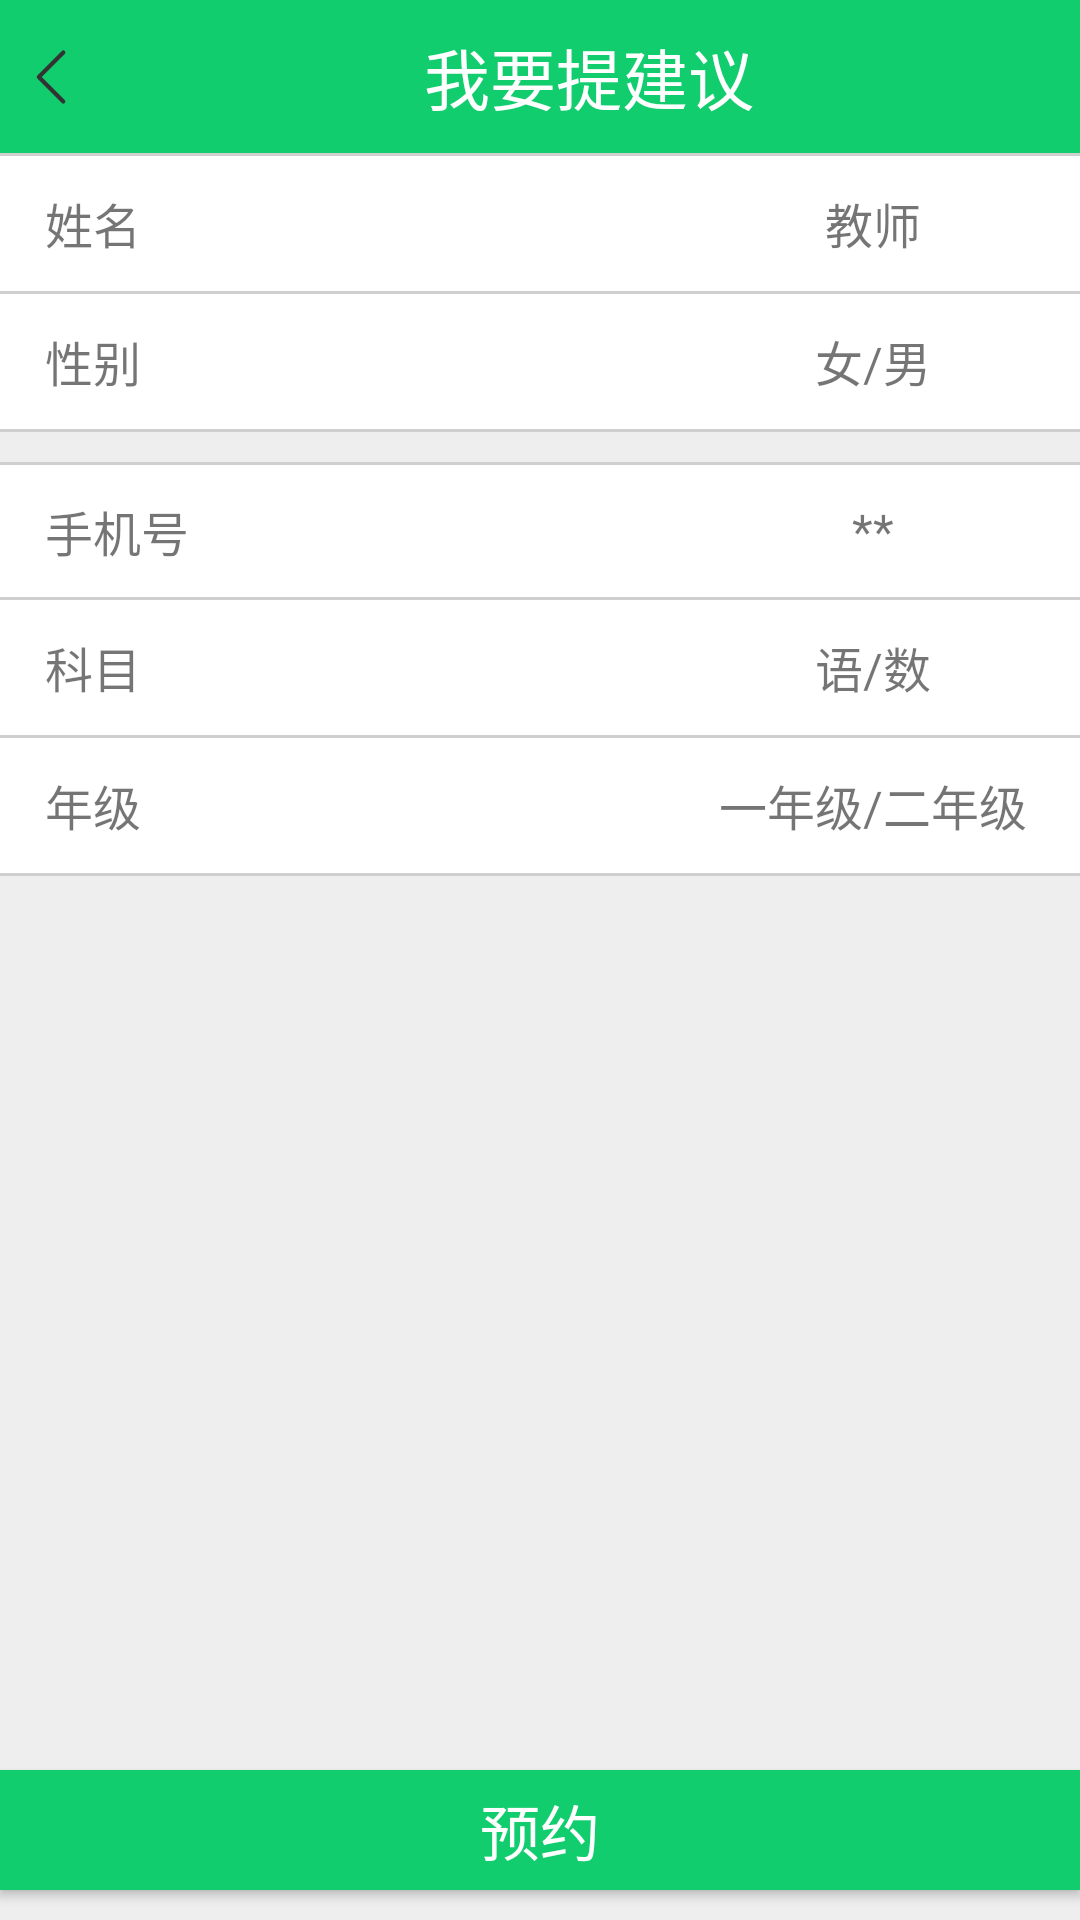

Locate icon controls on the screen. Image size 1080x1920, boxes as BBox(x1, y1, x2, y2).
left: BBox(37, 50, 66, 104)
